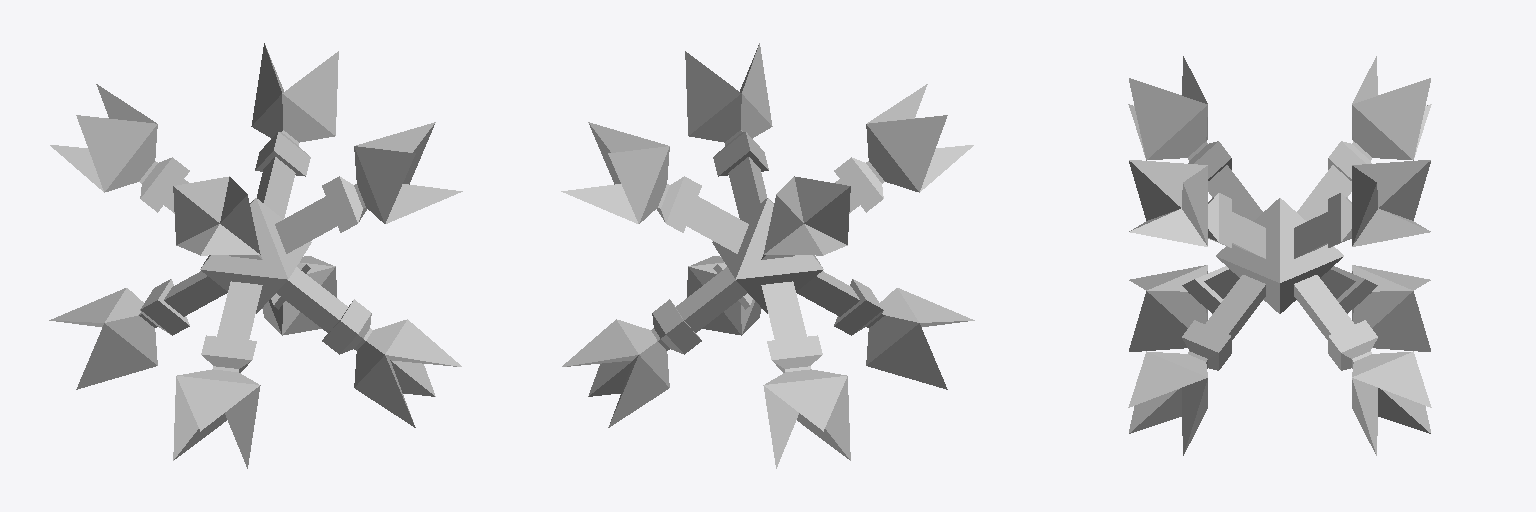
The model's file is ball-o-doom.obj.
3 renders of one model, left to right at view 1: azimuth 30°, elevation 25°; view 2: azimuth 150°, elevation 25°; view 3: azimuth 270°, elevation 25°, orthographic.
Visible parts, largest first — view 1: octahedron3; view 2: octahedron3; view 3: octahedron3.
Boxes of the visible parts, x1,y1,x2,y2 form: octahedron3: [49, 43, 462, 468]; octahedron3: [561, 43, 974, 468]; octahedron3: [1128, 56, 1431, 455].
Size of the model in its own units: 9.37 by 9.37 by 9.37.